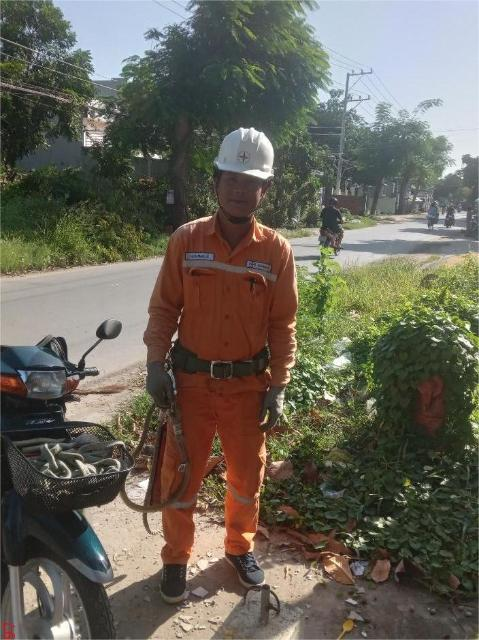gloves: (135, 360, 187, 412), (253, 384, 294, 431)
harness: (156, 326, 269, 378)
helmet: (185, 111, 290, 193)
shoes: (145, 543, 199, 604), (218, 537, 274, 591)
